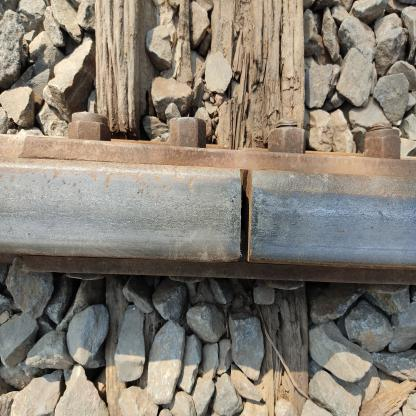Non Defective 2: (197, 139, 299, 293)
Non Defective 3: (29, 100, 416, 197)
